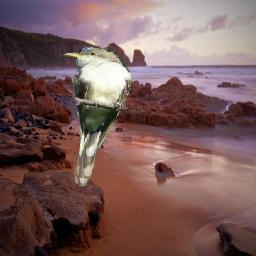Cuckoo: (64, 47, 133, 188)
